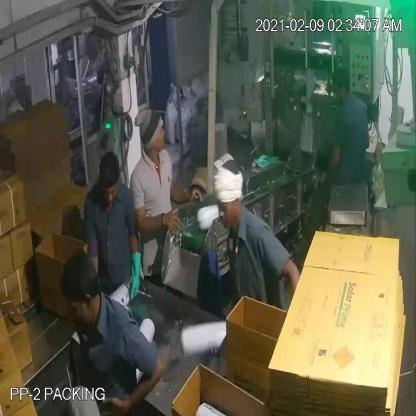glove: (123, 245, 149, 309)
no_glove: (98, 357, 170, 416), (164, 170, 210, 218), (133, 200, 182, 238)
